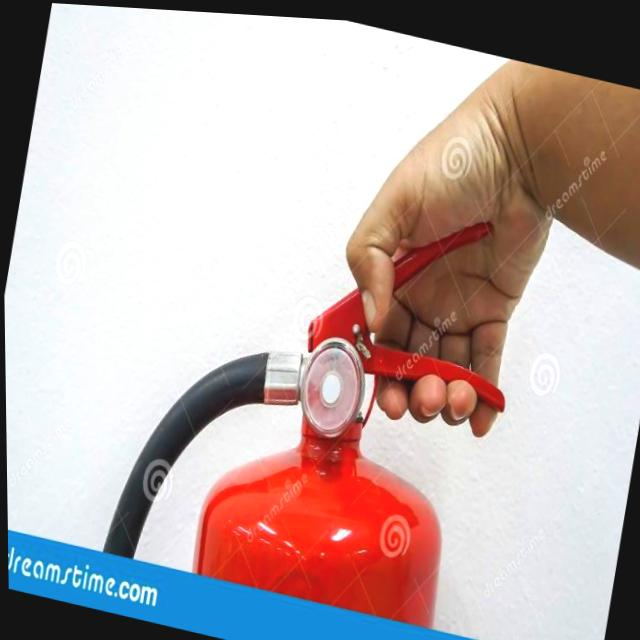FireExtinguisher: (85, 124, 540, 637)
